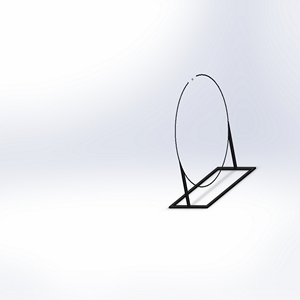circle: (168, 71, 256, 210)
